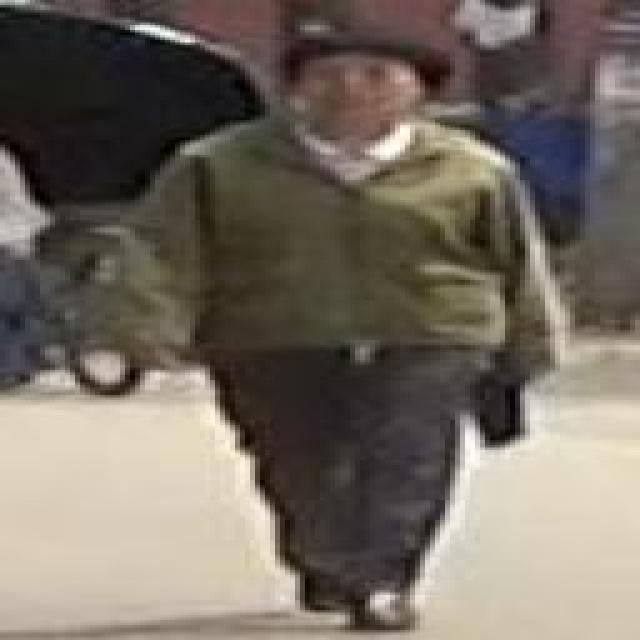adult: (75, 36, 590, 622)
